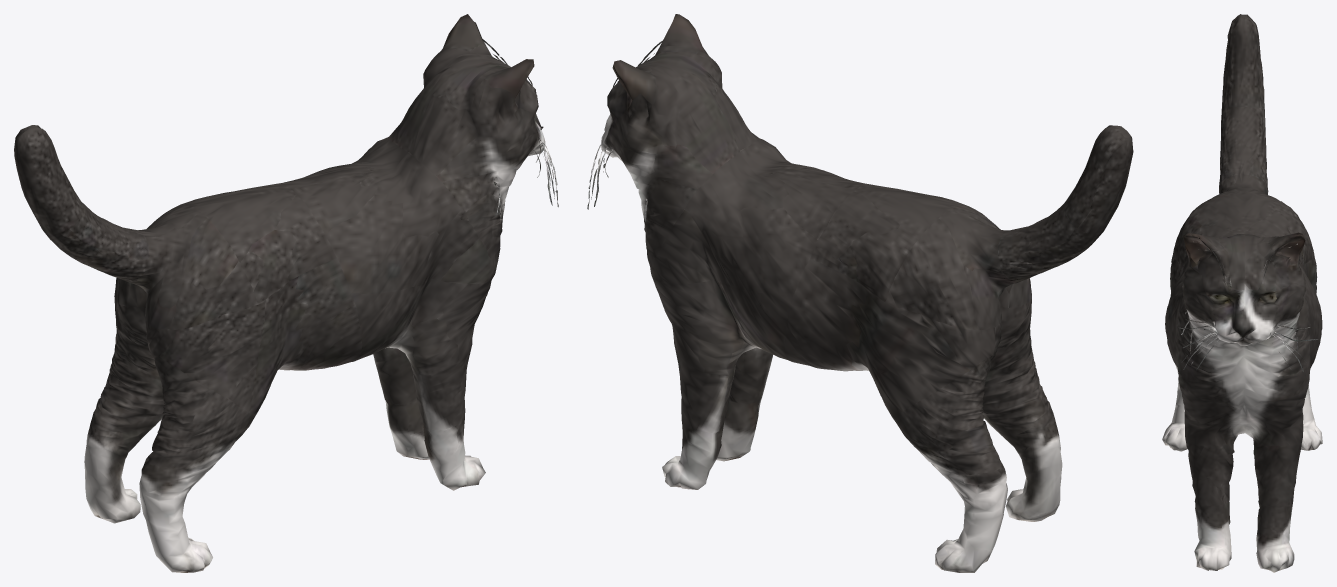
File: SOCKAMILL-lo.glb
The picture shows the model from 3 angles, left to right: view 1: azimuth 30°, elevation 25°; view 2: azimuth 150°, elevation 25°; view 3: azimuth 270°, elevation 25°; orthographic projection. The views are drawn at different scales.
Visible parts, largest first — view 1: tripo_node_f4d4779a-f7d1-4dd1-8044-fc1f3d6e6da8; view 2: tripo_node_f4d4779a-f7d1-4dd1-8044-fc1f3d6e6da8; view 3: tripo_node_f4d4779a-f7d1-4dd1-8044-fc1f3d6e6da8.
Part boxes in pixels (x1,y1,x2,y2): tripo_node_f4d4779a-f7d1-4dd1-8044-fc1f3d6e6da8: [14, 14, 558, 572]; tripo_node_f4d4779a-f7d1-4dd1-8044-fc1f3d6e6da8: [587, 14, 1133, 572]; tripo_node_f4d4779a-f7d1-4dd1-8044-fc1f3d6e6da8: [1162, 14, 1322, 572].
Bounding box in the file's own units: 1.23 × 0.9991 × 0.3832.
1 material, 1 textured.
